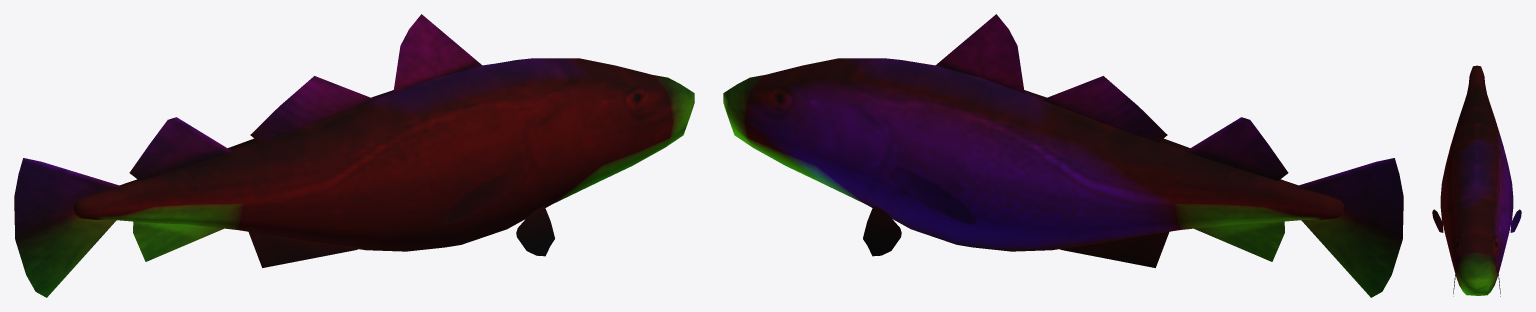
Rendered from atlantic_cod.glb.
The picture shows the model from 3 angles, left to right: view 1: azimuth 30°, elevation 25°; view 2: azimuth 150°, elevation 25°; view 3: azimuth 270°, elevation 25°; orthographic projection. The views are drawn at different scales.
Parts seen in each view (by area): view 1: AtlanticCod; view 2: AtlanticCod; view 3: AtlanticCod.
Part boxes in pixels (x1,y1,x2,y2): AtlanticCod: (14,14,694,297); AtlanticCod: (723,14,1403,297); AtlanticCod: (1432,65,1521,296).
Size of the model in its own units: 1 by 0.3565 by 0.1808.
1 material, 1 textured.
